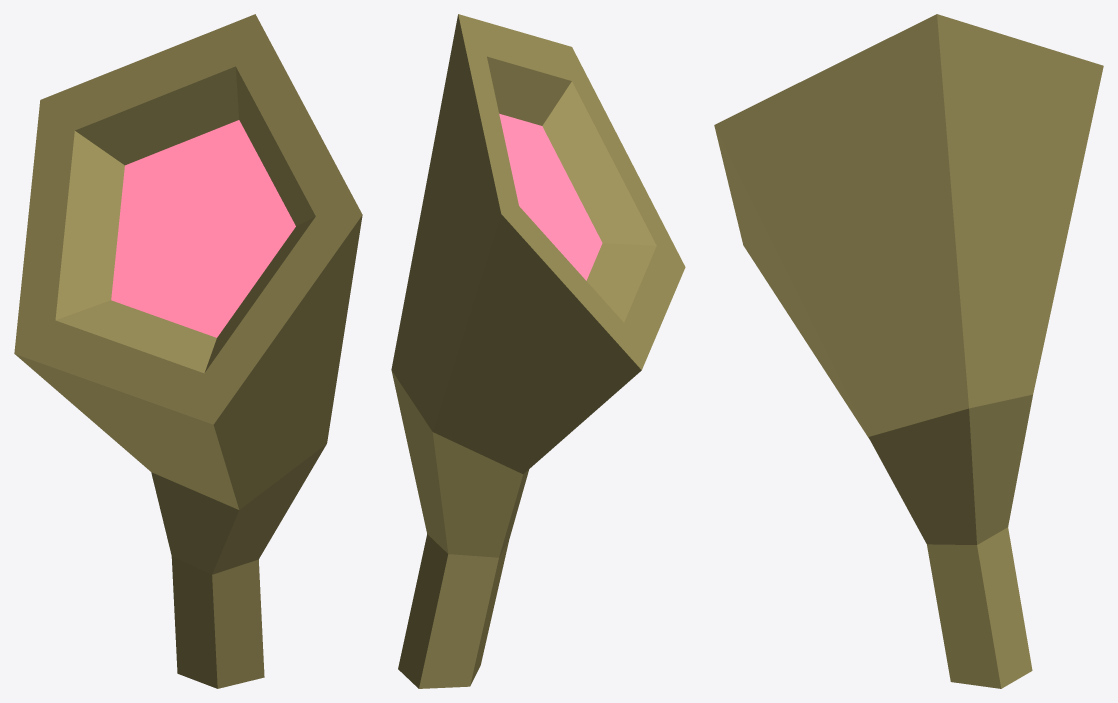
File: LPSciFi_AlienPlantH2.fbx
The picture shows the model from 3 angles, left to right: view 1: azimuth 30°, elevation 25°; view 2: azimuth 150°, elevation 25°; view 3: azimuth 270°, elevation 25°; orthographic projection. The views are drawn at different scales.
Parts seen in each view (by area): view 1: AlienPlantH2; view 2: AlienPlantH2; view 3: AlienPlantH2.
Part boxes in pixels (bbox=[...]): AlienPlantH2: bbox=[14, 14, 362, 688]; AlienPlantH2: bbox=[391, 14, 685, 688]; AlienPlantH2: bbox=[714, 14, 1103, 688].
Size of the model in its own units: 63.03 by 149 by 79.91.
